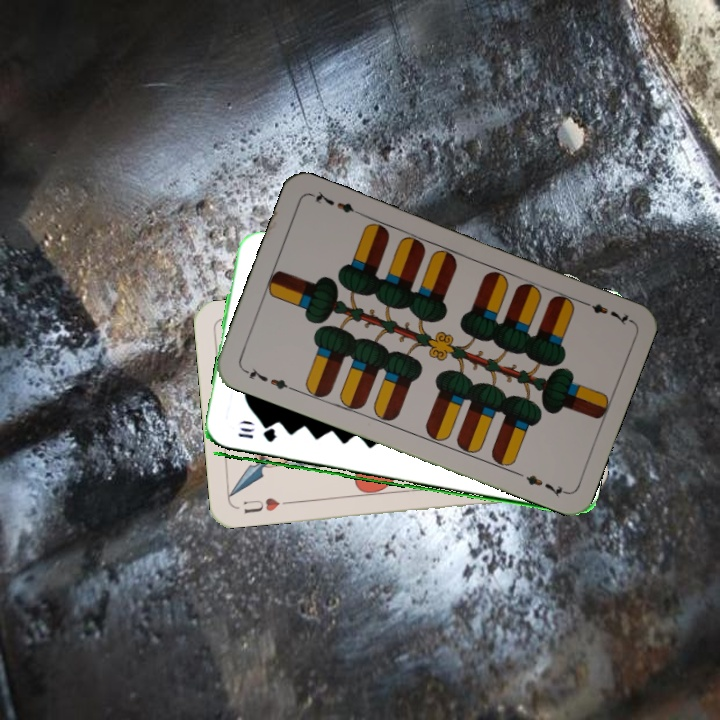E7: (576, 296, 633, 328), (239, 364, 296, 393)
G10: (234, 423, 279, 445)
HU: (240, 493, 293, 516)
